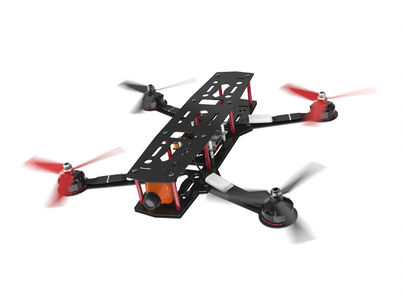drone: (20, 69, 375, 246)
